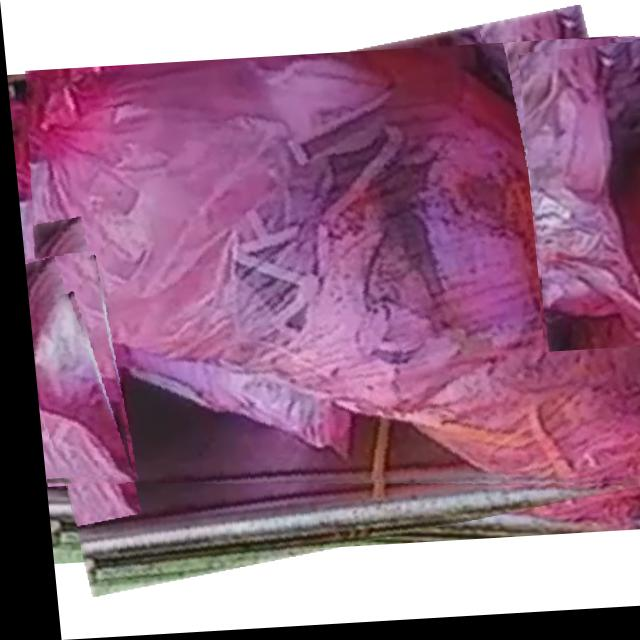other_trashbag: (22, 53, 640, 491), (516, 53, 640, 349), (21, 255, 123, 475)
